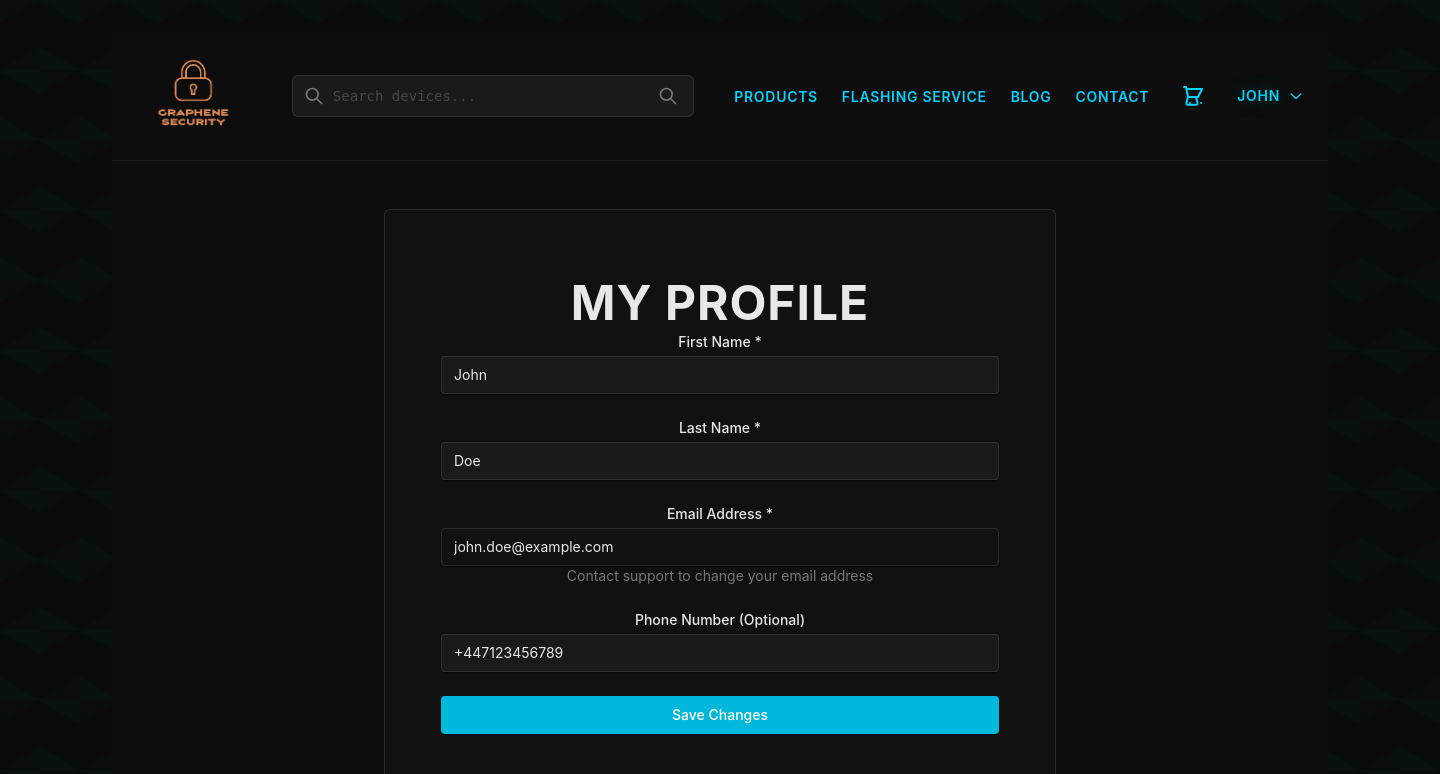
Test case: Profile Flow Integration Tests › should handle profile update errors
The width and height of the screenshot is (1440, 774).
Expected: the heading "My Profile" is shown, [571,273,869,332]
Expected: the field showing "John" is shown, [441,356,999,394]
Note: Submit the form without changes to trigger an error
Step 1. Click the button "Save Changes" → (720, 715), box [441,696,999,734]
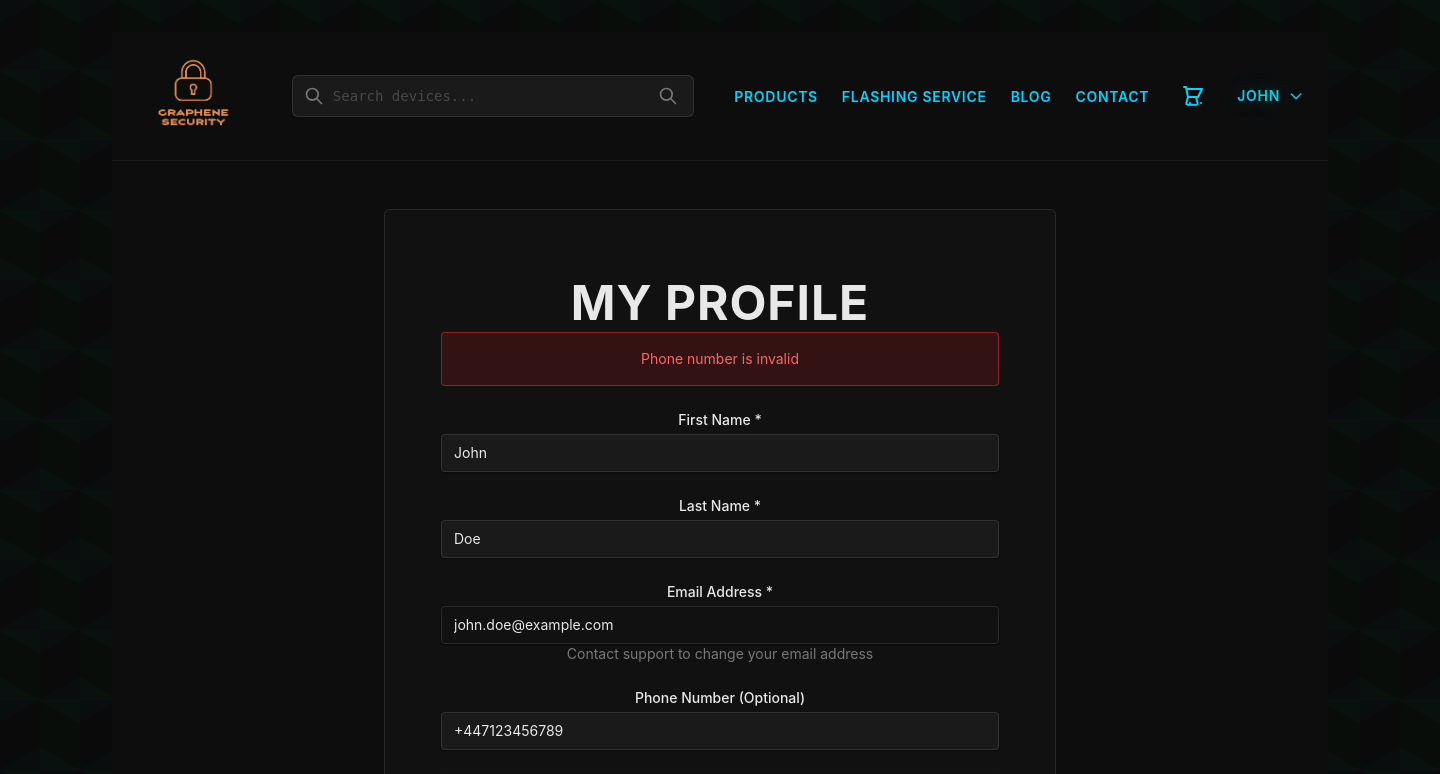
Now the text "Phone number is invalid" is shown, box [641,350,799,367]
